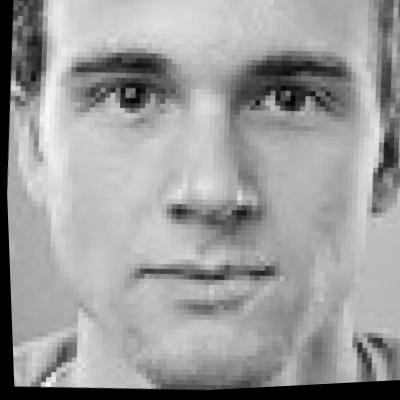netural: (22, 0, 389, 383)
